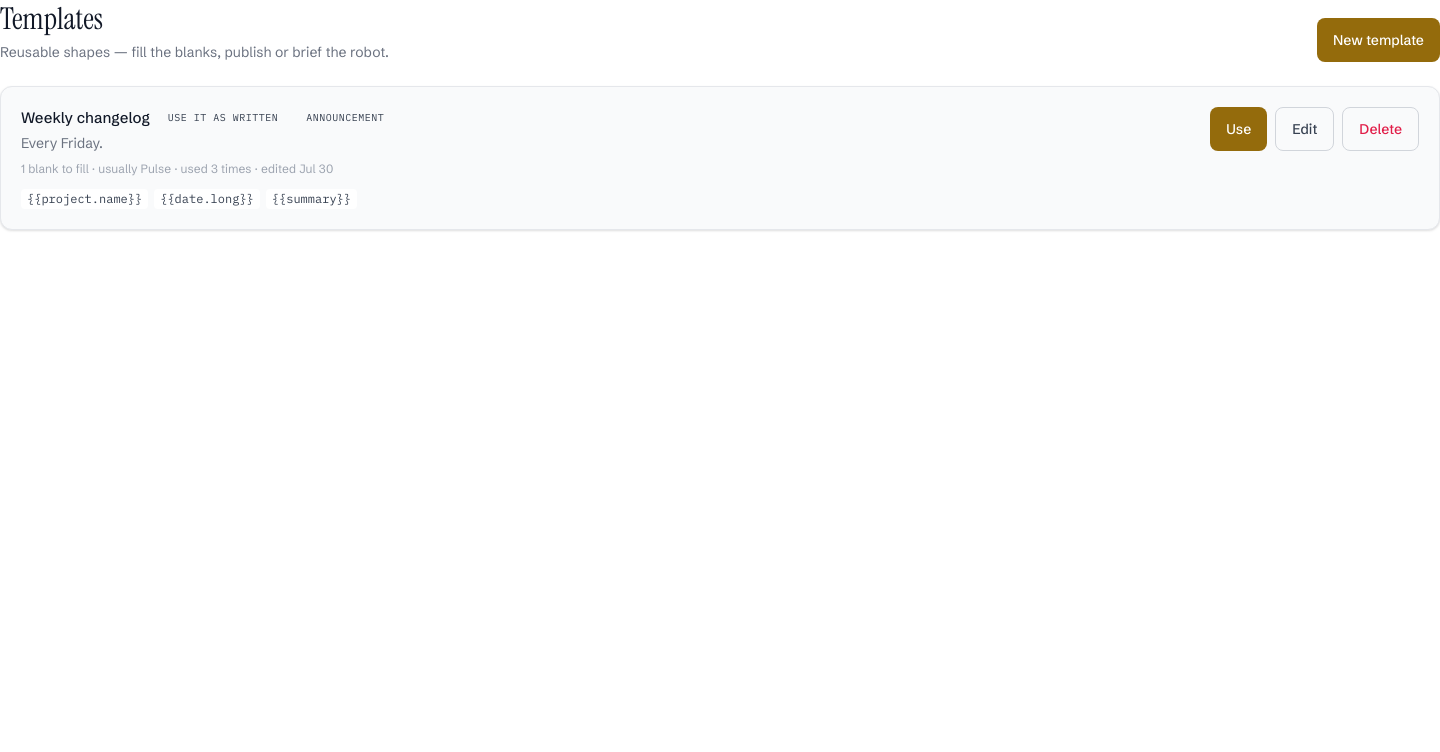
Test: the editor › says 'them' once more than one variable is going unused
Step 1. Click the button "Edit" → (1305, 128), box [1275,106,1334,150]
(page scrolled)
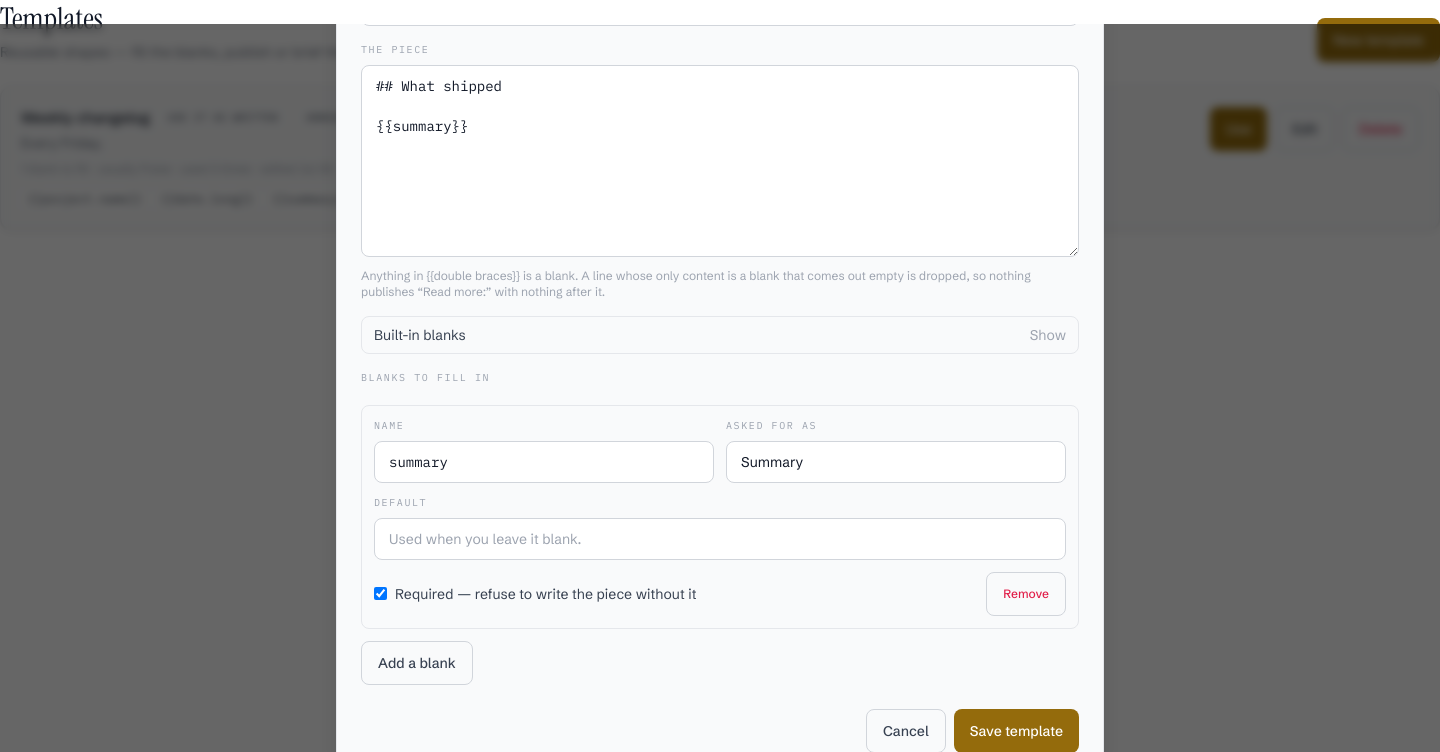
Step 2. Click the button "Add a blank" → (417, 662), box [361,640,473,684]
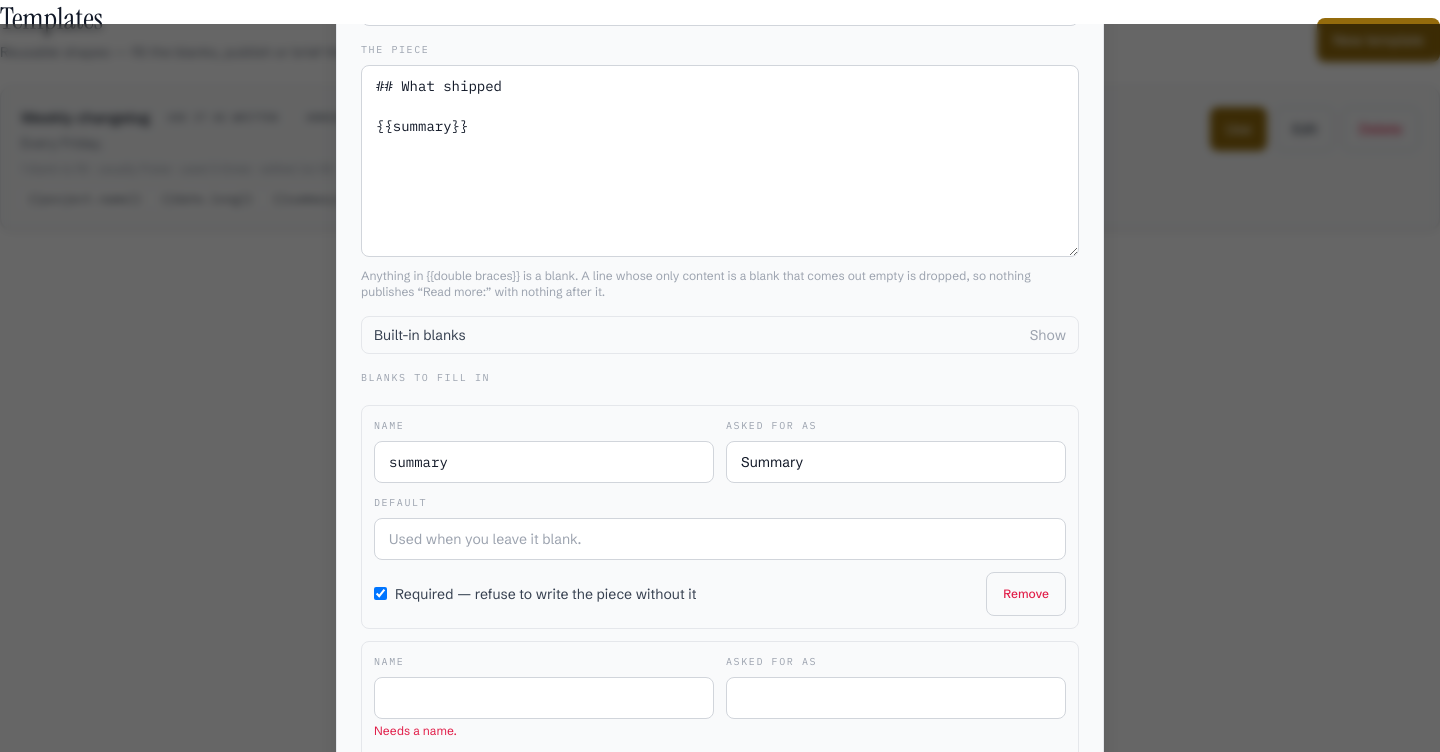
Step 3. Type "spare" into the 2nd field labelled "Name" → (544, 698), box [374,676,714,718]
(page scrolled)
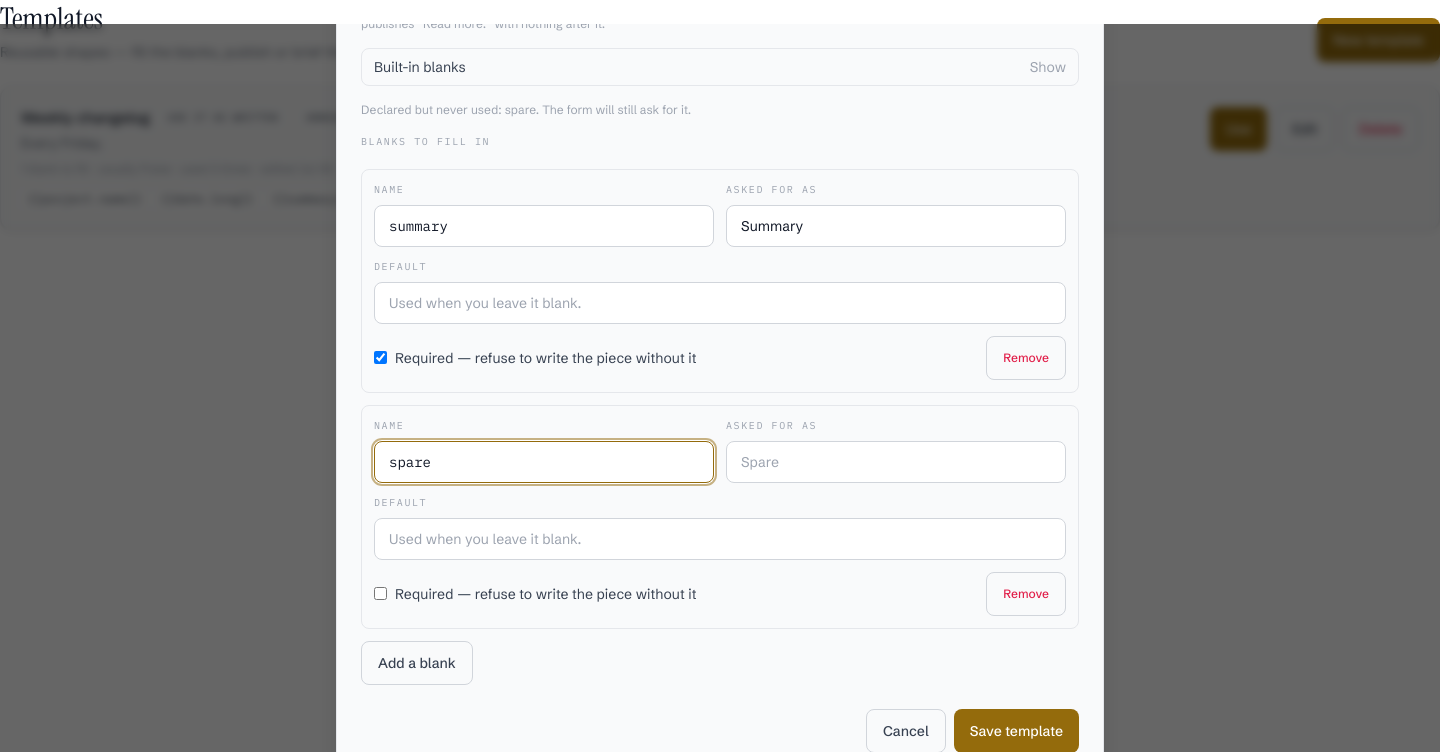
Step 4. Click the button "Add a blank" → (417, 662), box [361,640,473,684]
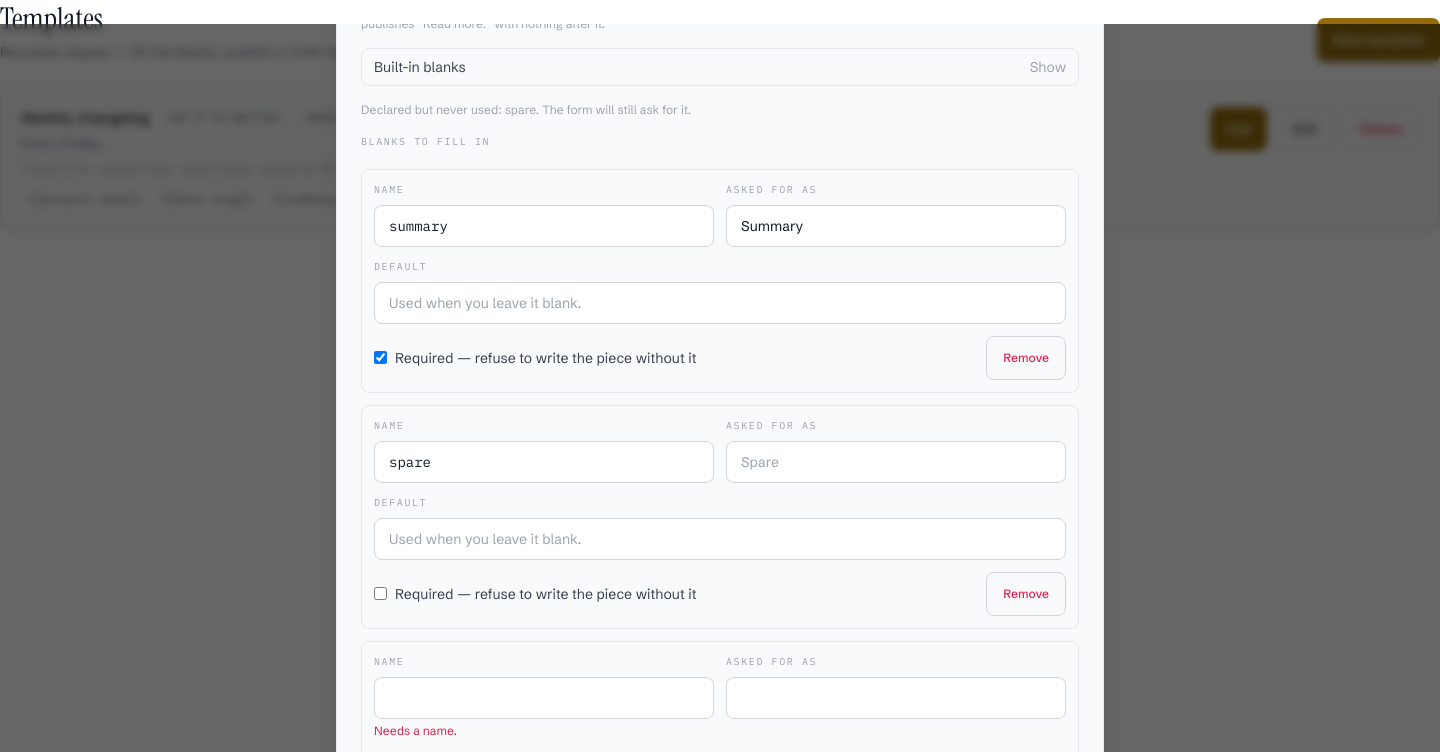
Step 5. Type "extra" into the 3rd field labelled "Name" → (544, 698), box [374,676,714,718]
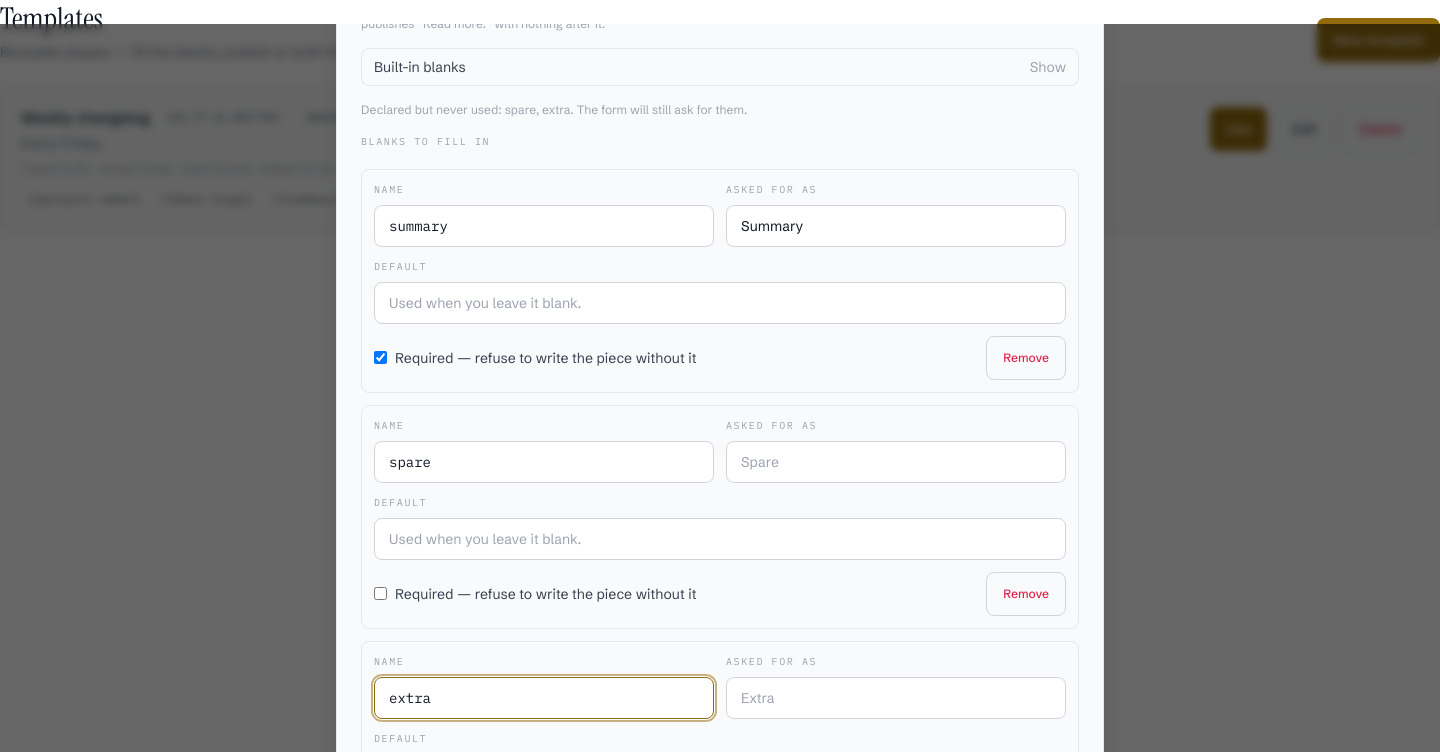
Check: the text "still ask for them." is shown, box [361,102,747,116]
